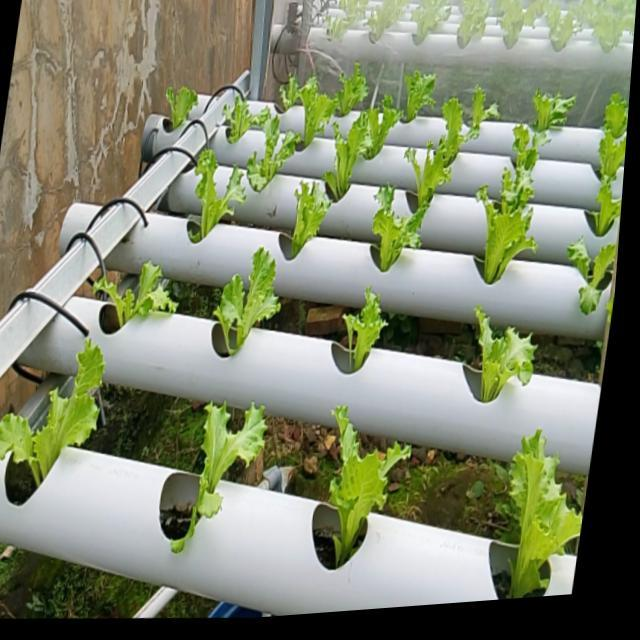Baby: (0, 343, 105, 490), (171, 406, 266, 556), (330, 409, 412, 570), (508, 434, 582, 599), (214, 248, 280, 356), (404, 120, 478, 214), (322, 109, 385, 204), (475, 308, 535, 404), (91, 260, 177, 326), (188, 150, 246, 244), (384, 64, 444, 149), (246, 111, 300, 195), (483, 201, 532, 286), (279, 76, 336, 149), (493, 144, 537, 233), (567, 239, 616, 316), (344, 288, 387, 372), (286, 183, 331, 261), (372, 188, 409, 273), (222, 91, 269, 145), (598, 101, 628, 182), (463, 86, 500, 142), (334, 63, 368, 118), (533, 90, 576, 133), (165, 85, 198, 127)
